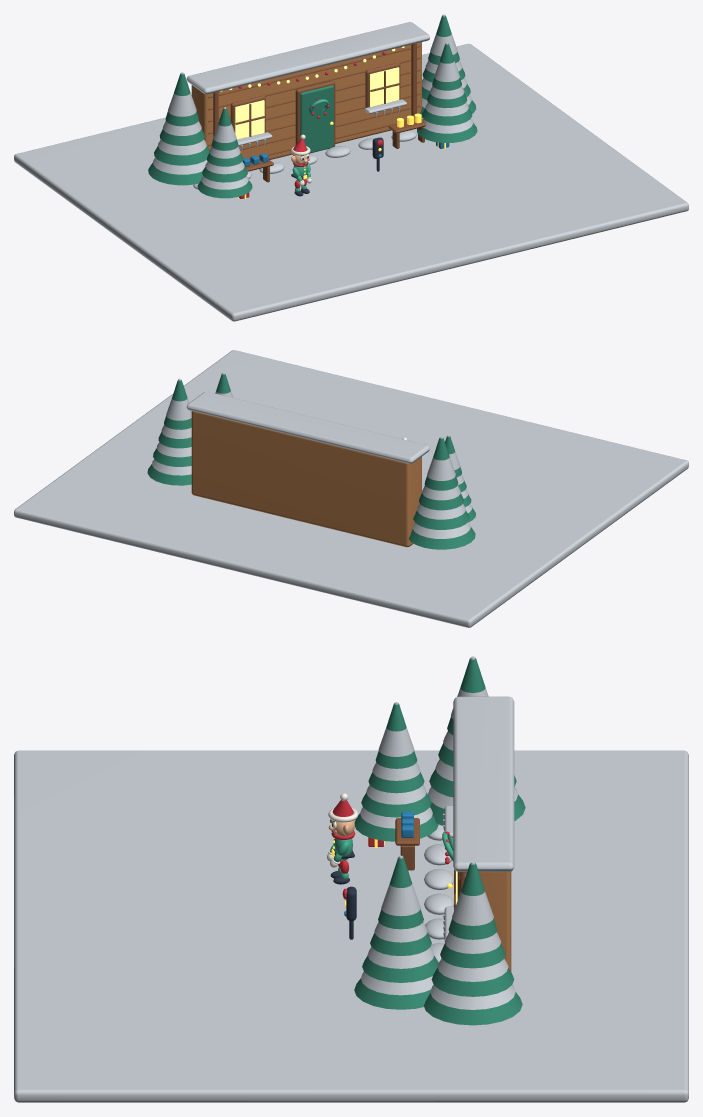
File: chapter-10.glb
The picture shows the model from 3 angles, top to bottom: view 1: azimuth 30°, elevation 25°; view 2: azimuth 150°, elevation 25°; view 3: azimuth 270°, elevation 25°; orthographic projection. The views are drawn at different scales.
Visible parts, largest first — view 1: Schneeboden, Werkstatt, Schneegesims, Wichteltür, Warmes Fenster, Warmes Fenster.001, Tannenzweig.008, Tannenzweig.009, Türrahmen, Tannenzweig.004, Tannenzweig.011, Schnee.011 (+6 smaller); view 2: Schneeboden, Werkstatt, Schneegesims, Tannenzweig.008, Tannenzweig.009, Tannenzweig.011, Schnee.008, Schnee.011, Tannenzweig.015, Tannenzweig.012, Tannenzweig.010, Schnee.009 (+1 smaller); view 3: Schneeboden, Schneegesims, Werkstatt, Tannenzweig.012, Tannenzweig.013, Tannenzweig.015, Schnee.012, Tannenzweig.005, Tannenzweig.004, Schnee.015, Tannenzweig.007, Schnee.013 (+14 smaller).
Part boxes in pixels (x1,y1,x2,y2): Schneeboden: (14, 43, 688, 321); Werkstatt: (191, 42, 421, 160); Schneegesims: (186, 22, 429, 94); Wichteltür: (300, 85, 333, 153); Warmes Fenster: (235, 100, 264, 139); Warmes Fenster.001: (370, 67, 399, 106); Tannenzweig.008: (148, 163, 202, 185); Tannenzweig.009: (154, 146, 209, 165); Türrahmen: (295, 81, 335, 146); Tannenzweig.004: (417, 122, 477, 142); Tannenzweig.011: (165, 73, 198, 126); Schnee.011: (168, 72, 196, 116); Schneeboden: (14, 350, 688, 627); Werkstatt: (191, 411, 421, 547); Schneegesims: (186, 391, 429, 463); Tannenzweig.008: (408, 527, 475, 549); Tannenzweig.009: (413, 510, 469, 529); Tannenzweig.011: (424, 437, 458, 490); Schnee.008: (412, 522, 470, 538); Schnee.011: (427, 436, 455, 480); Tannenzweig.015: (164, 380, 191, 429); Tannenzweig.012: (147, 464, 191, 485); Tannenzweig.010: (419, 493, 463, 510); Schnee.009: (417, 504, 465, 519); Schneeboden: (14, 750, 688, 1102); Schneegesims: (453, 696, 514, 871); Werkstatt: (466, 871, 511, 971); Tannenzweig.012: (424, 992, 522, 1025); Tannenzweig.013: (431, 968, 514, 996); Tannenzweig.015: (448, 863, 497, 939); Schnee.012: (430, 985, 515, 1009); Tannenzweig.005: (362, 955, 438, 982); Tannenzweig.004: (354, 978, 430, 1009); Schnee.015: (452, 861, 493, 925); Tannenzweig.007: (378, 857, 423, 929); Schnee.013: (437, 959, 508, 981).
Size of the model in its own units: 18 by 4.39 by 15.
